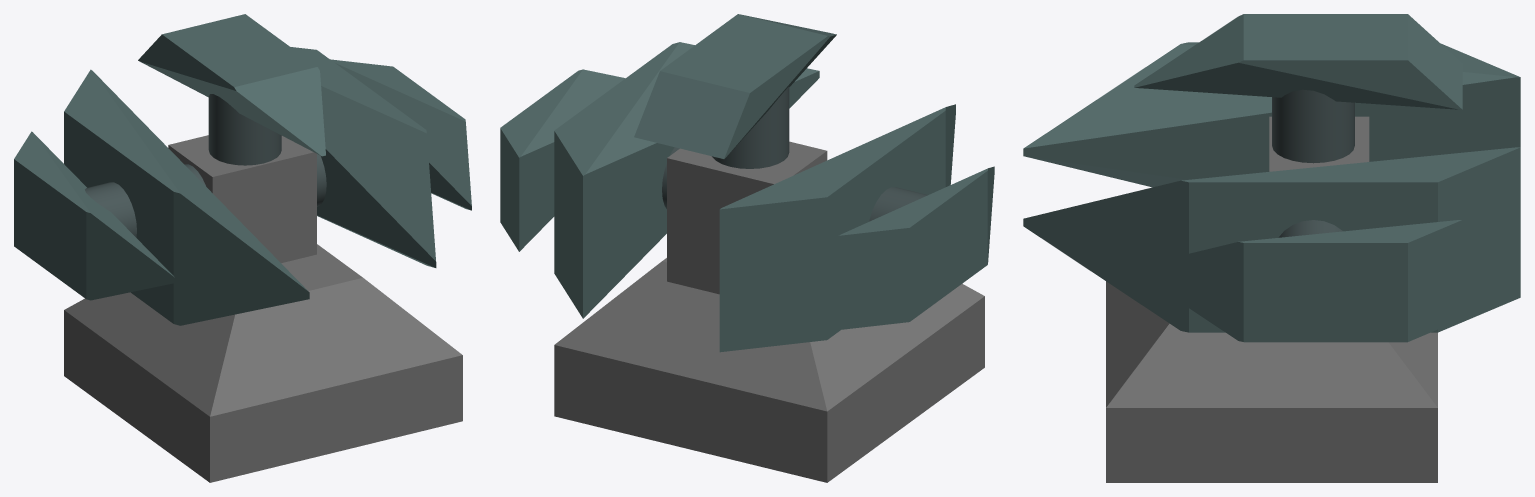
The model's file is tourelle2_1.obj.
3 views of the same model, side by side, from view 1: azimuth 30°, elevation 25°; view 2: azimuth 150°, elevation 25°; view 3: azimuth 270°, elevation 25° (orthographic). The views are drawn at different scales.
Visible parts, largest first — view 1: s.0019, s.0025Mirrored, s.0025, s.0027Mirrored, s.0029, s.0024, s.0027, s.0029Mirrored, s.0028, s.0026; view 2: s.0019, s.0025Mirrored, s.0025, s.0027Mirrored, s.0029, s.0024, s.0027, s.0029Mirrored, s.0028, s.0026; view 3: s.0019, s.0025, s.0027, s.0025Mirrored, s.0029, s.0029Mirrored, s.0028, s.0024, s.0026.
Part boxes in pixels (x1,y1,x2,y2): s.0019: (64, 244, 462, 482); s.0025Mirrored: (64, 69, 309, 325); s.0025: (291, 47, 436, 267); s.0027Mirrored: (14, 131, 175, 300); s.0029: (138, 14, 325, 156); s.0024: (168, 135, 316, 263); s.0027: (330, 59, 471, 210); s.0029Mirrored: (138, 14, 325, 155); s.0028: (208, 94, 281, 165); s.0026: (85, 154, 326, 237); s.0019: (554, 258, 984, 482); s.0025Mirrored: (719, 104, 955, 352); s.0025: (554, 42, 819, 318); s.0027Mirrored: (838, 166, 994, 329); s.0029: (634, 14, 836, 158); s.0024: (667, 141, 827, 294); s.0027: (500, 69, 625, 251); s.0029Mirrored: (638, 14, 836, 158); s.0028: (712, 87, 789, 168); s.0026: (662, 147, 927, 221); s.0019: (1106, 281, 1437, 482); s.0025: (1023, 147, 1520, 332); s.0027: (1134, 220, 1462, 342); s.0025Mirrored: (1023, 42, 1520, 187); s.0029: (1134, 14, 1462, 109); s.0029Mirrored: (1134, 14, 1462, 109); s.0028: (1272, 89, 1354, 163); s.0024: (1269, 116, 1369, 171); s.0026: (1278, 220, 1342, 237).
Bounding box in the file's own units: 1.2 × 1 × 1.2.
